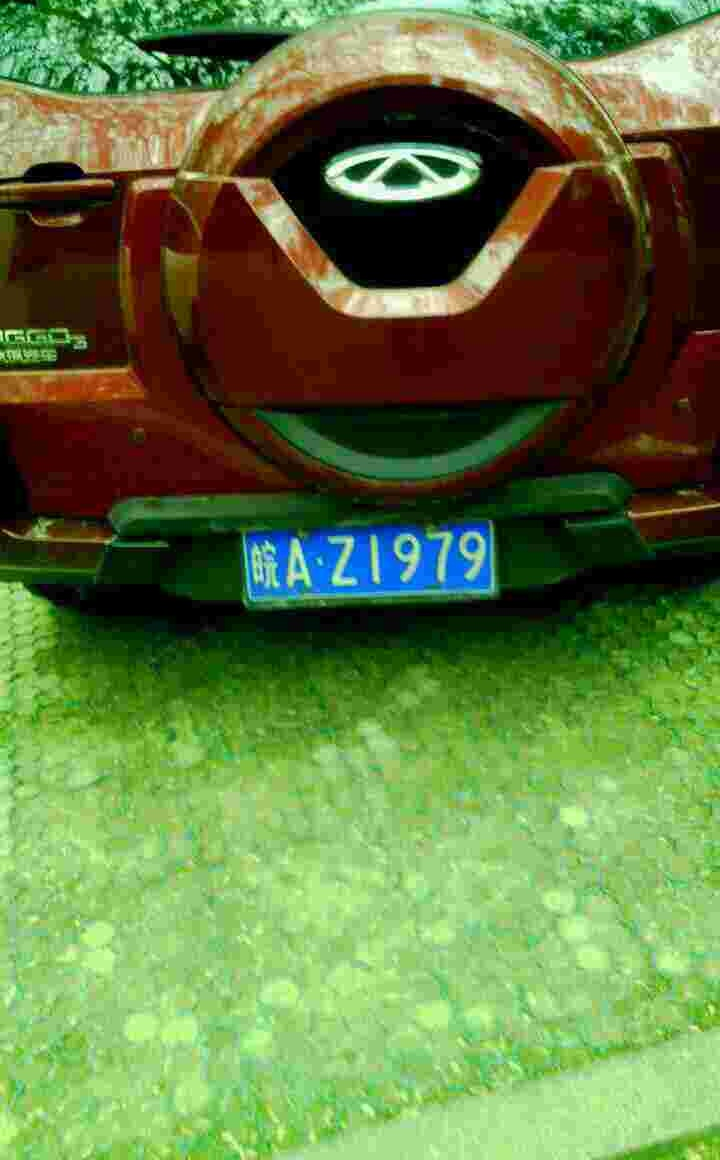car: (231, 522, 504, 598)
